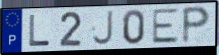0: (121, 8, 147, 46)
2: (59, 10, 84, 48)
E: (150, 7, 180, 45)
J: (91, 9, 115, 47)
L: (28, 13, 52, 47)
P: (181, 5, 213, 45)
